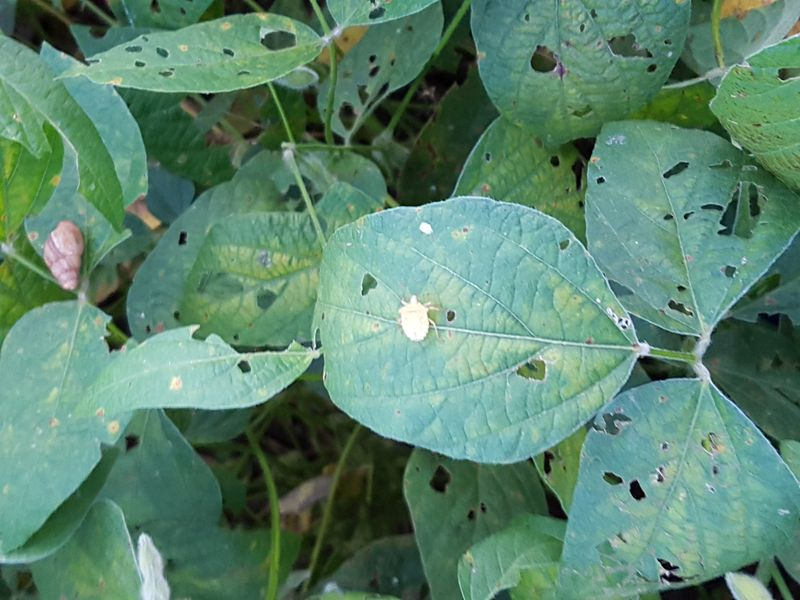Euschistus_heros_ninfa: (387, 291, 448, 352)
Gastropoda: (32, 214, 95, 303)
